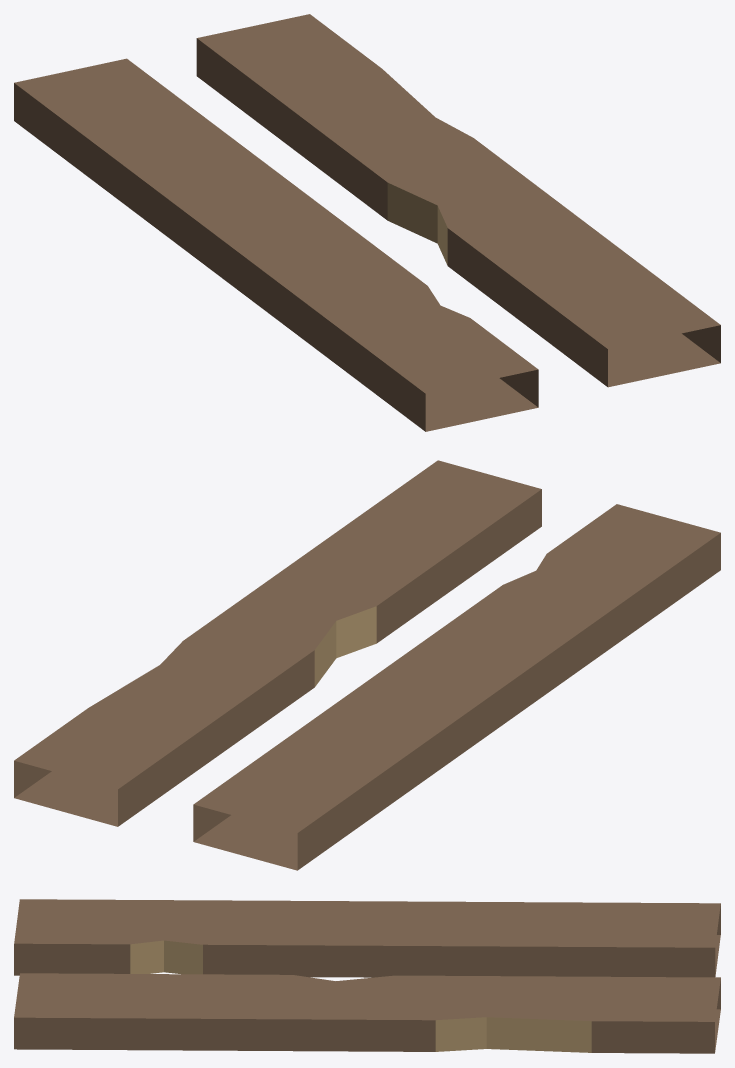
Rendered from Cave_Prop_Support_Ceiling_Boards_2.fbx.
3 views of the same model, one above another, from view 1: azimuth 30°, elevation 25°; view 2: azimuth 150°, elevation 25°; view 3: azimuth 270°, elevation 25° (orthographic). The views are drawn at different scales.
Visible parts, largest first — view 1: object1, object2; view 2: object1, object2; view 3: object2, object1.
Boxes of the visible parts, bbox=[...] form: object1: bbox=[14, 58, 538, 431]; object2: bbox=[196, 14, 720, 387]; object1: bbox=[193, 504, 720, 870]; object2: bbox=[14, 460, 541, 826]; object2: bbox=[14, 973, 720, 1053]; object1: bbox=[14, 899, 720, 977].
Bounding box in the file's own units: 0.8277 × 0.1 × 2.02.
